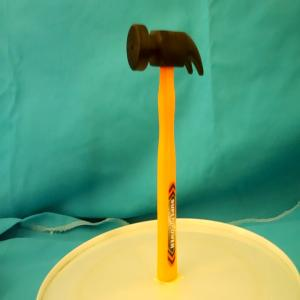martelo: (125, 24, 204, 283)
